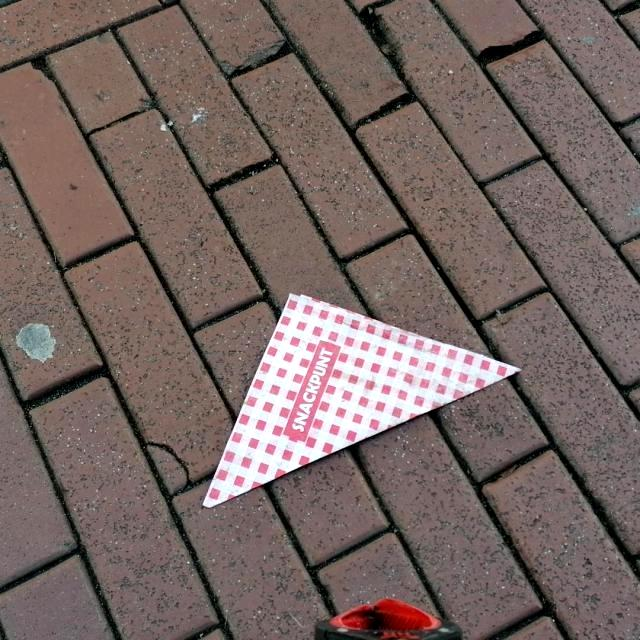Paper: (200, 290, 524, 510)
